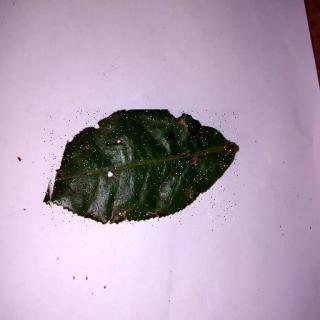Bird Eye Spot: (44, 111, 240, 227)
